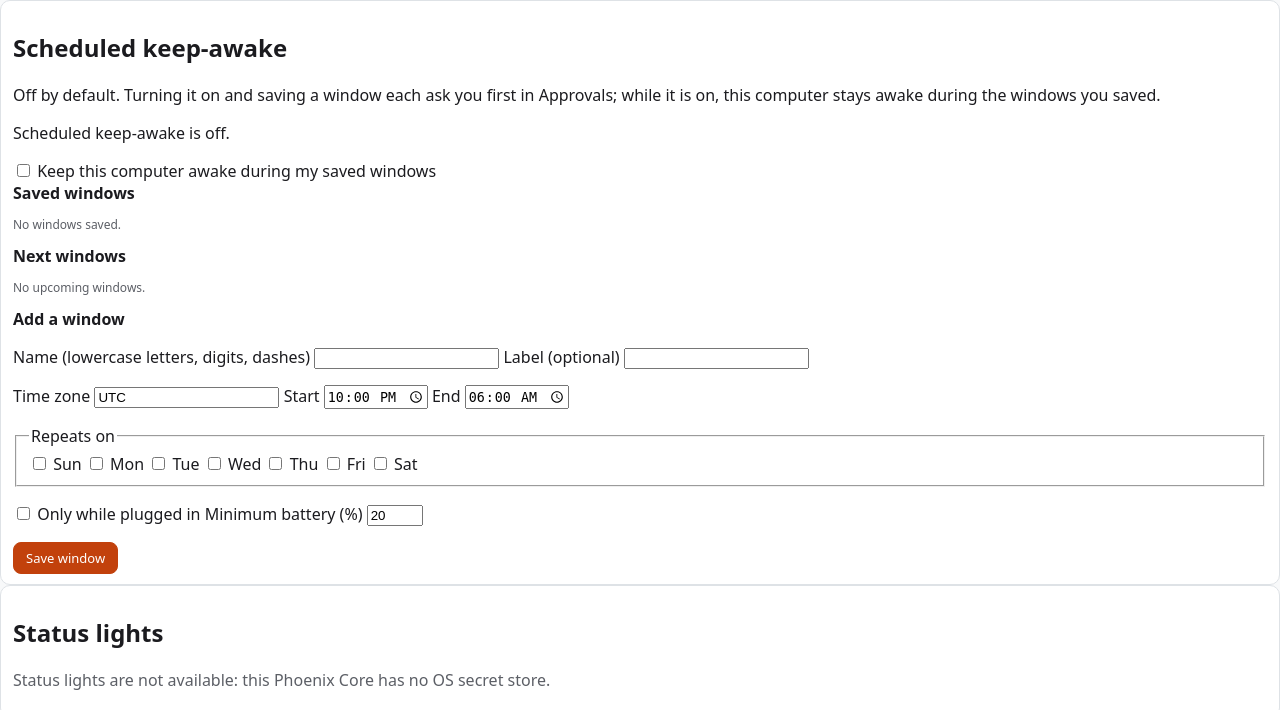
Test case: scheduled keep-awake › shows a refusal and stays off
Click the checkbox labelled "Keep this computer awake during my saved windows" at (24, 170), box [17,164,30,177]
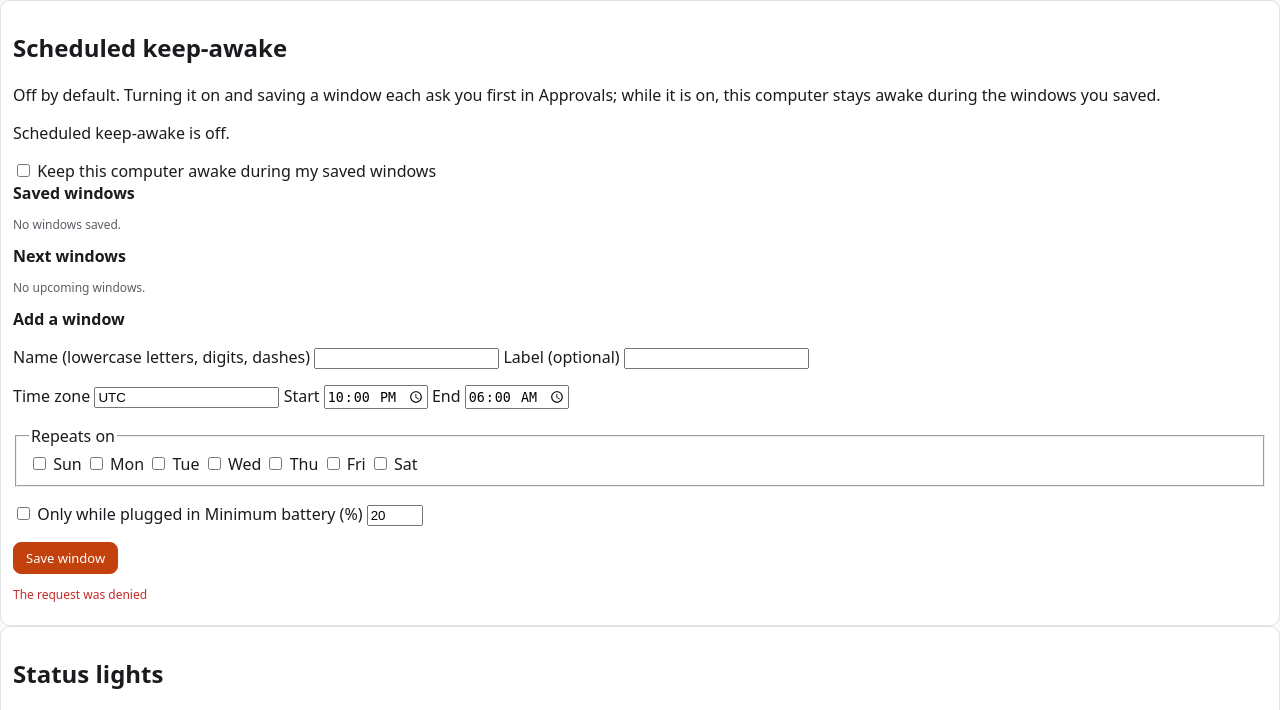
expect the message "The request was denied" is shown: met, box [13,586,147,603]
